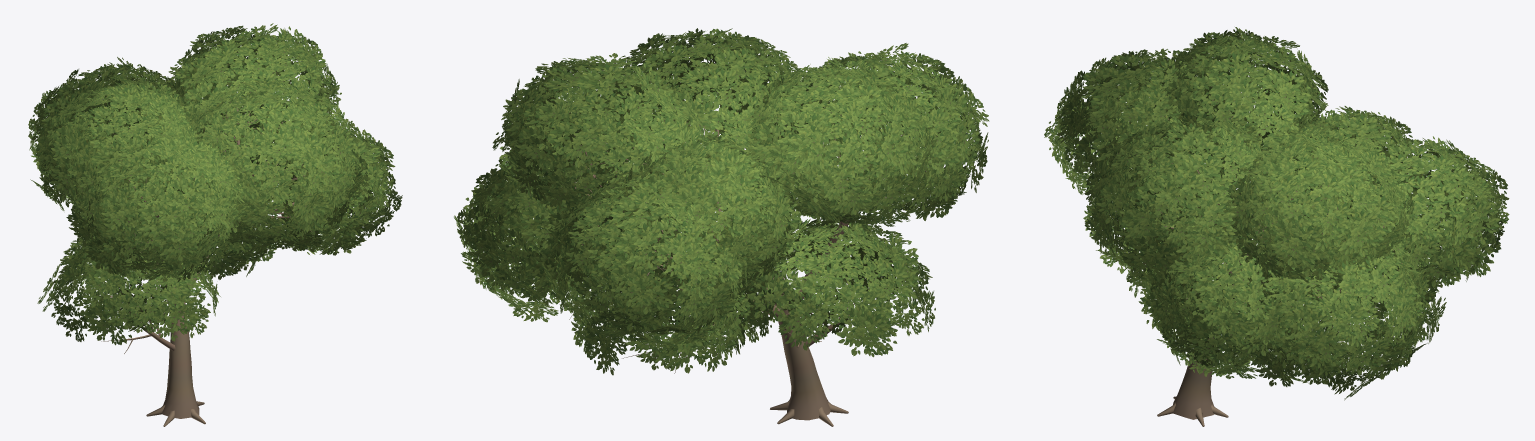
File: eco_tree_deciduous_a_LOD0.glb
3 views of the same model, side by side, from view 1: azimuth 30°, elevation 25°; view 2: azimuth 150°, elevation 25°; view 3: azimuth 270°, elevation 25° (orthographic). The views are drawn at different scales.
Visible parts, largest first — view 1: eco_tree_deciduous_a_LOD0; view 2: eco_tree_deciduous_a_LOD0; view 3: eco_tree_deciduous_a_LOD0.
Part boxes in pixels (bbox=[...]): eco_tree_deciduous_a_LOD0: bbox=[28, 23, 402, 426]; eco_tree_deciduous_a_LOD0: bbox=[454, 28, 989, 426]; eco_tree_deciduous_a_LOD0: bbox=[1044, 27, 1509, 426].
Bounding box in the file's own units: 6.96 × 5.95 × 7.22.
2 materials, 1 textured.
